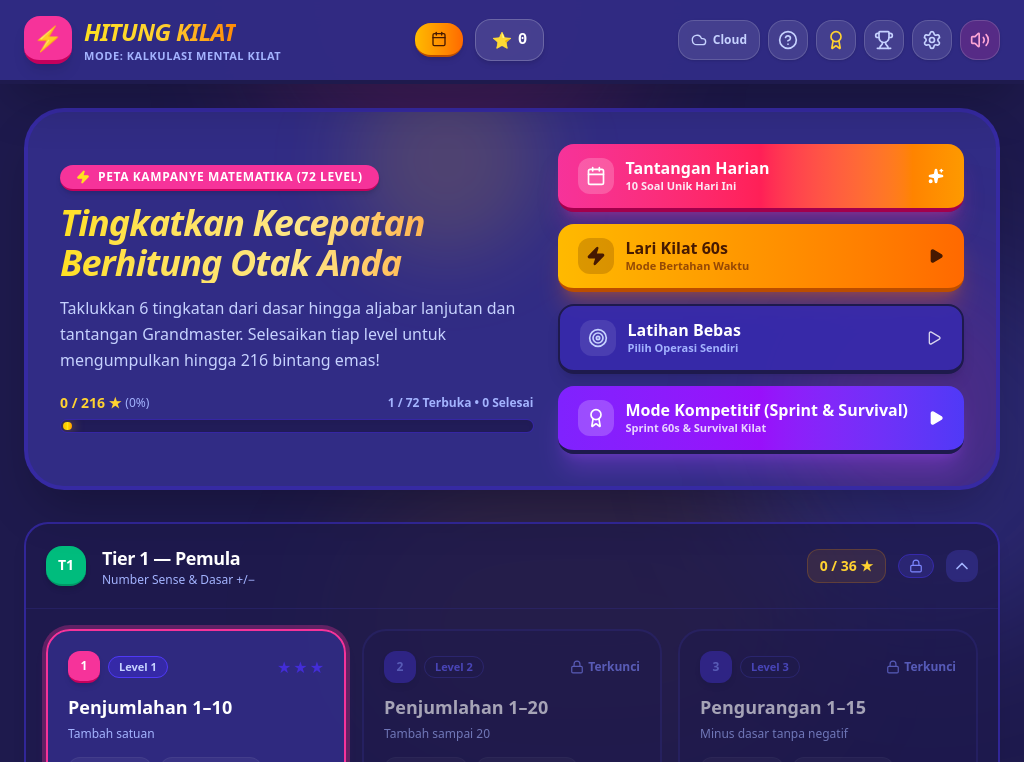
Test: Lazy Screen & Modal Loading Integration (Task 5) › dynamically loads and renders StatsModal when header stars badge is clicked
Click the element titled "Total Bintang Diraih": (510, 40) [475, 19, 544, 61]
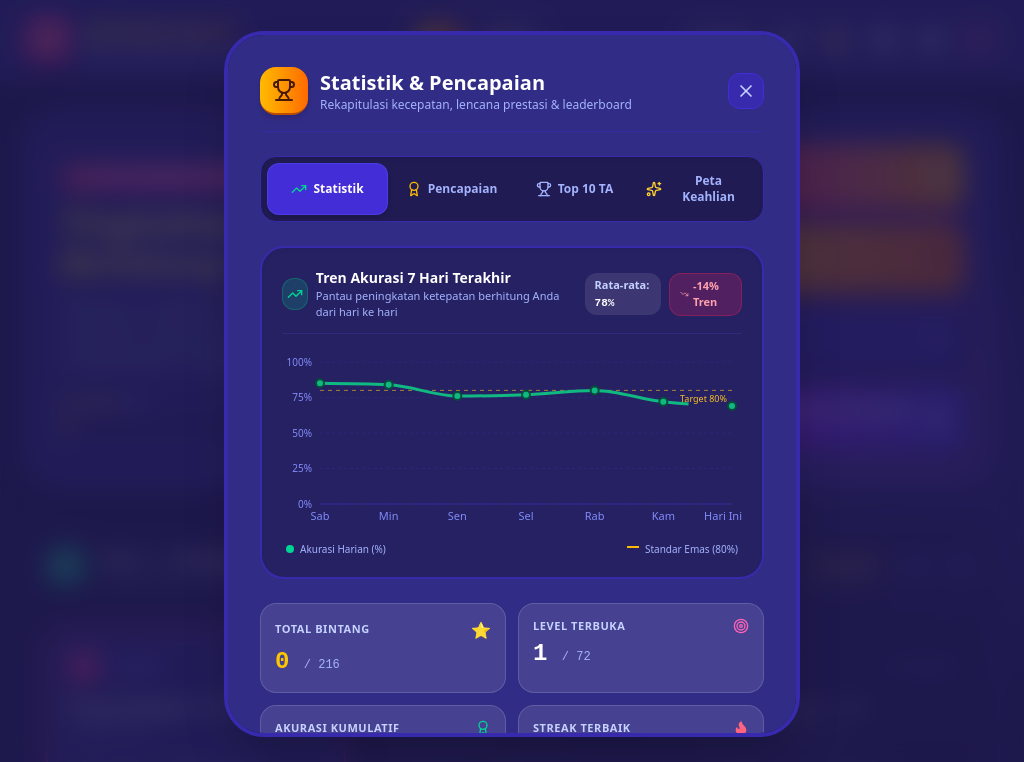
Now the heading "Statistik & Pencapaian" is shown, box [320, 69, 545, 96]
